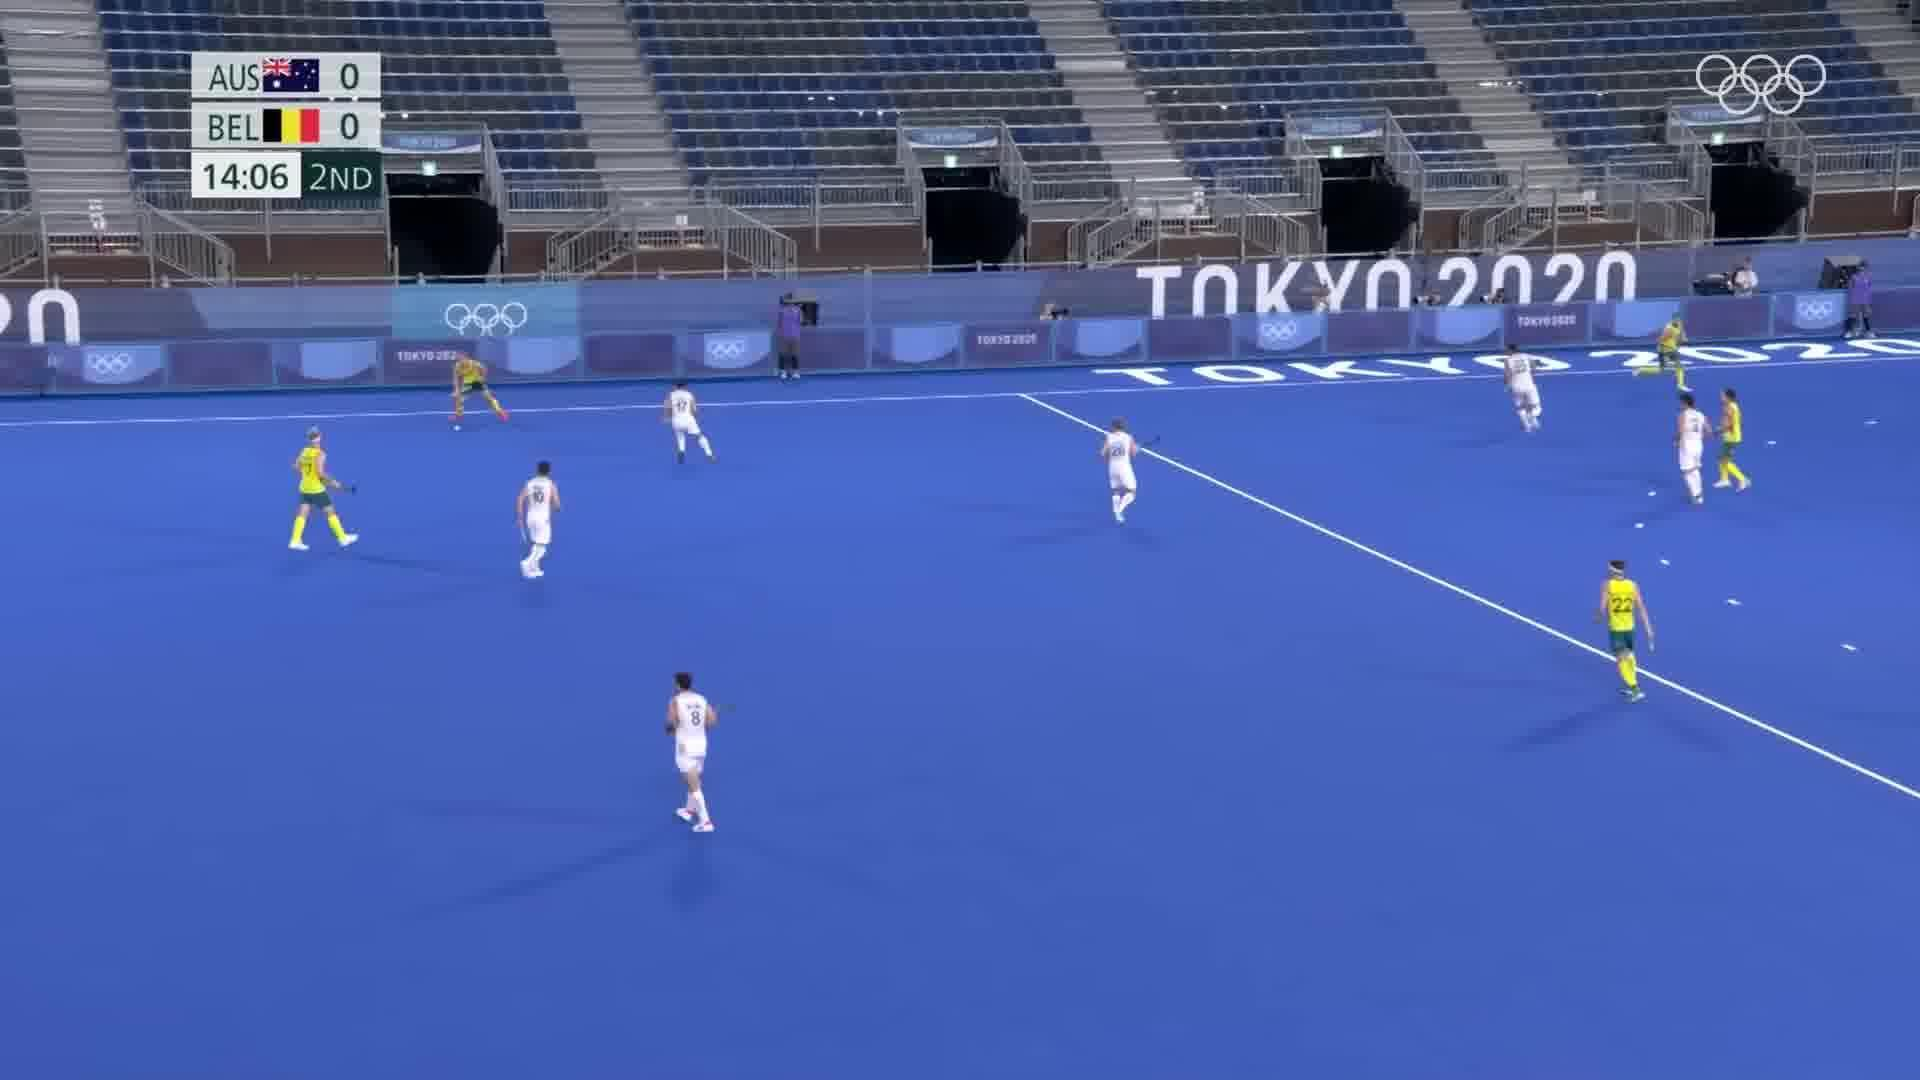ball: (450, 419, 467, 436)
